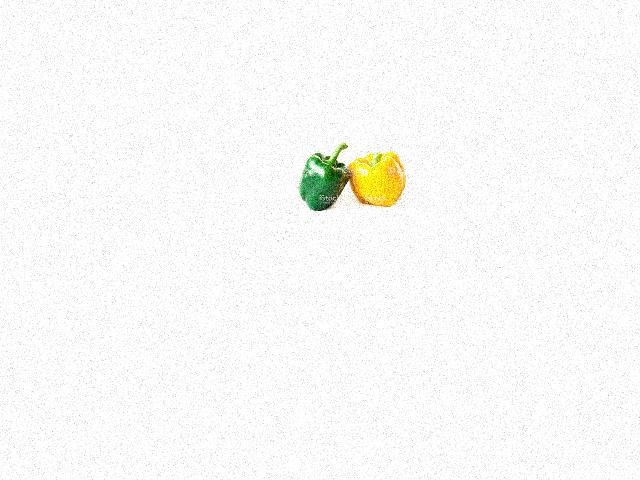bell_pepper: (294, 148, 349, 219)
